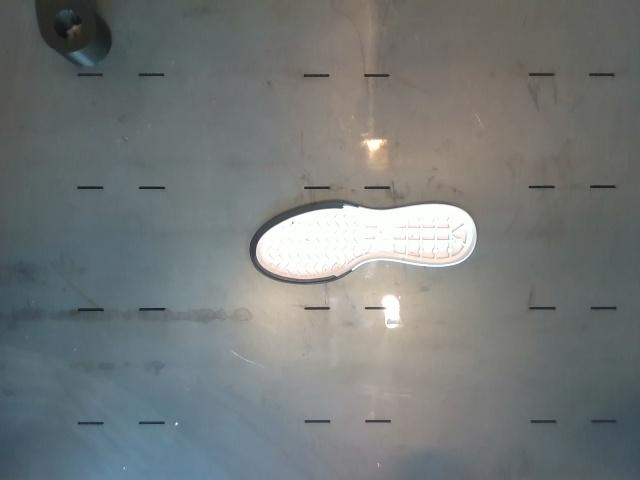shoes: (250, 203, 476, 284)
